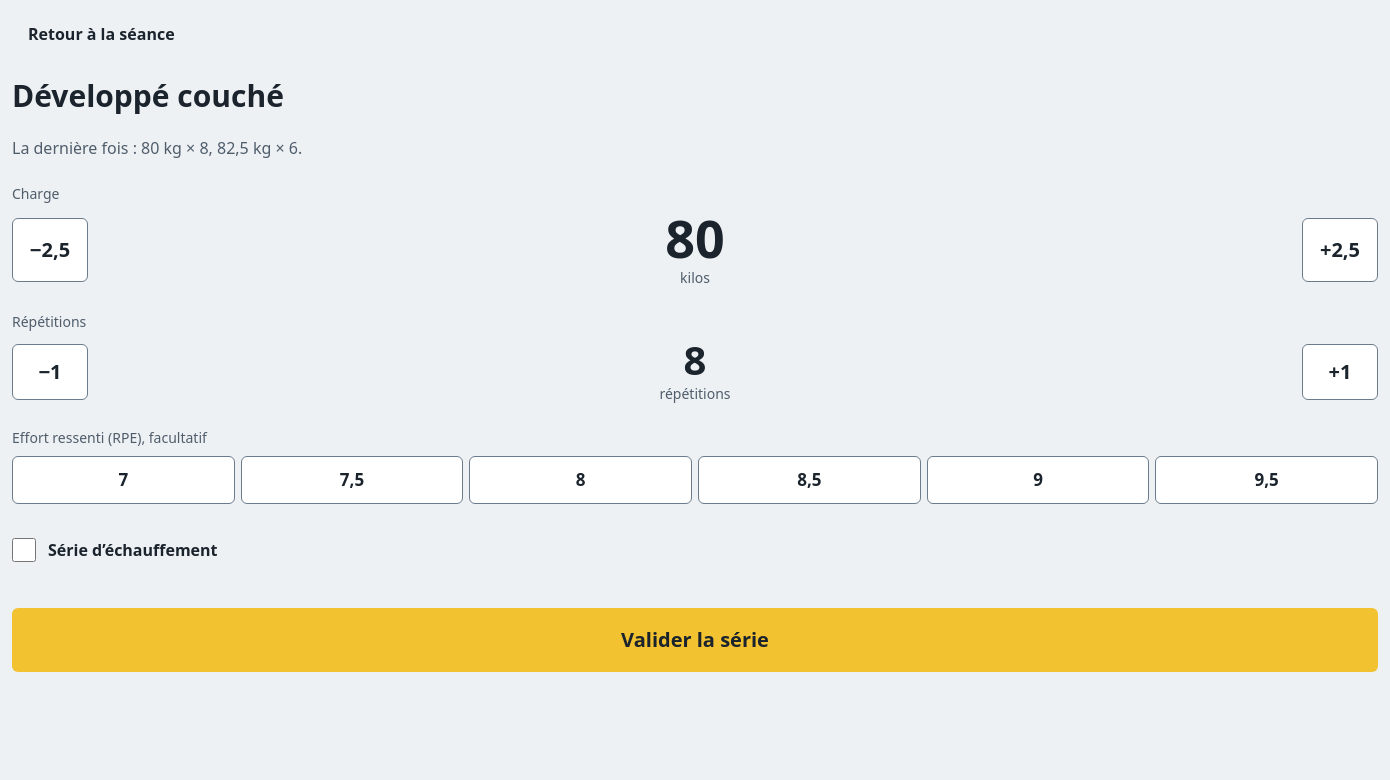
Test case: SetEntry › pré-remplit avec la dernière fois et envoie la série en kilos
expect the text "La dernière fois : 80 kg × 8, 82,5 kg × 6." is shown: met, box [12,136,302,158]
Click the button named "+2,5 kilos".
click(1340, 250)  # box [1302,218,1378,282]
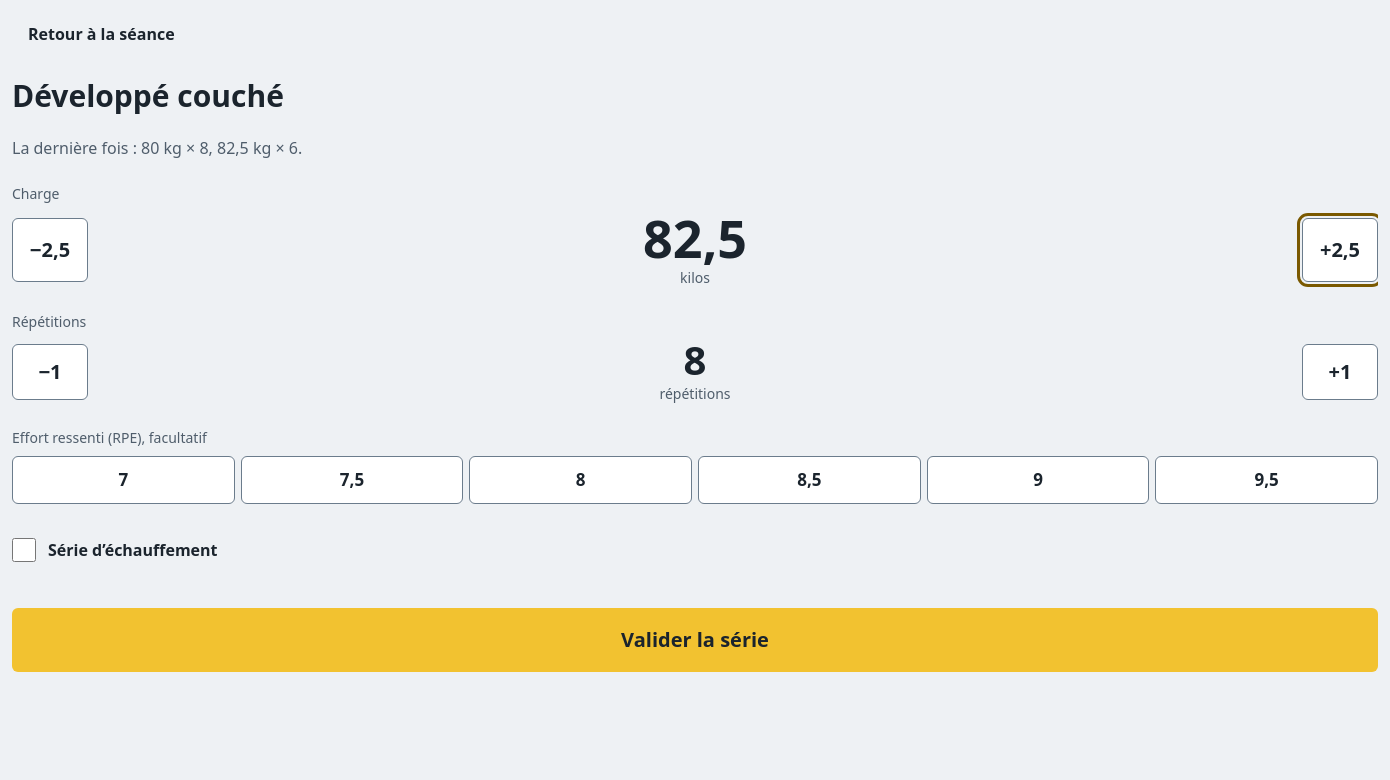
Click the radio button labelled "8,5".
click(809, 480)  # box [698,456,921,504]
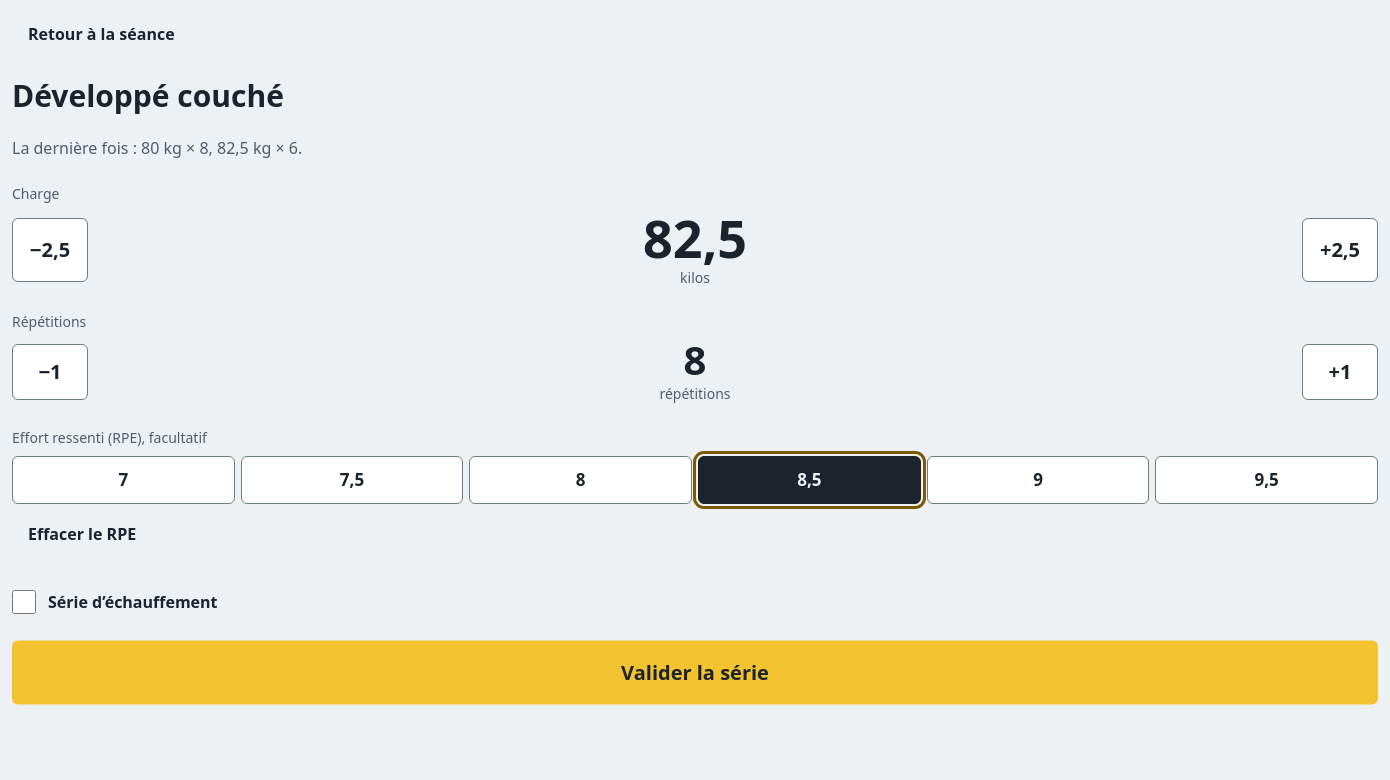
Click the button "Valider la série".
click(695, 672)  # box [12,640,1378,704]
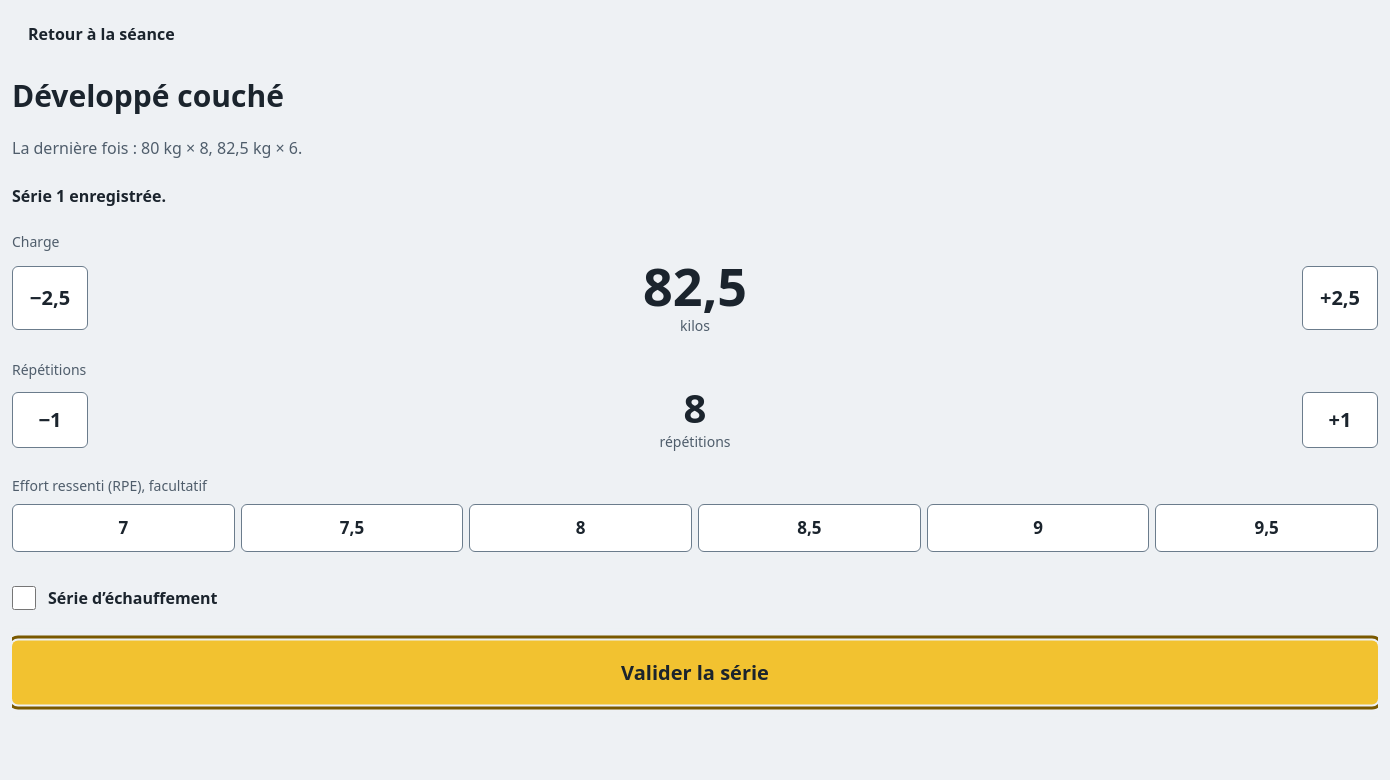
expect the radio button labelled "8,5" is not checked: met, box [698,504,921,552]
expect the element showing "82,5 kilos" is shown: met, box [643,250,747,334]
expect the text "Série 1 enregistrée." is shown: met, box [12,184,166,206]
